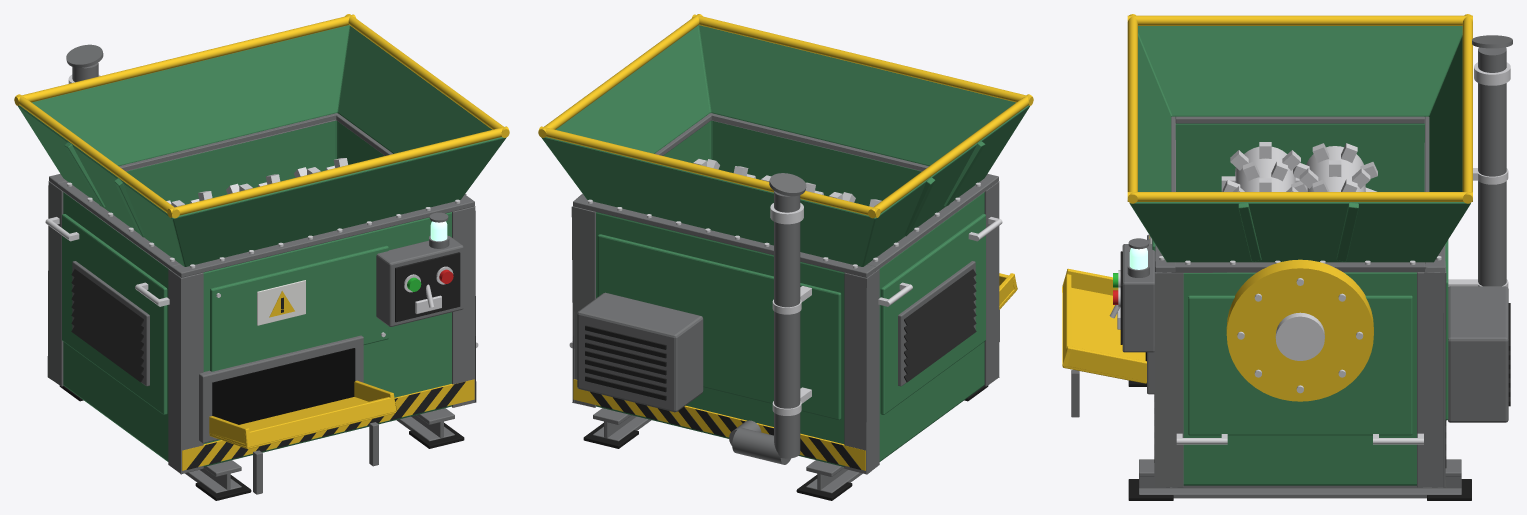
File: recycler.fbx
3 renders of one model, left to right at view 1: azimuth 30°, elevation 25°; view 2: azimuth 150°, elevation 25°; view 3: azimuth 270°, elevation 25°, orthographic. The views are drawn at different scales.
Visible parts, largest first — view 1: Hopper, Body_Main, Body_Panel_Front, Hopper_Lip, Body_Panel_Left, Output_Slot, Body_TopRim, Body_CornerGuard_FL, Output_Tray, Vent_Louvers, Body_CornerGuard_FR, Output_Frame (+13 smaller); view 2: Hopper, Body_Main, Body_Panel_Back, Hopper_Lip, Motor_Housing, Body_Panel_Left, Body_CornerGuard_BL, Body_TopRim, Exhaust_Pipe, Vent_Louvers, Motor_Vent_Slats, Body_CornerGuard_BR (+11 smaller); view 3: Hopper, Body_Main, Body_Panel_Right, Gear_Cover, Hopper_Lip, Motor_Housing, Output_Tray, Body_CornerGuard_FR, Exhaust_Pipe, Body_CornerGuard_BR, Body_TopRim, Base_Skid_R (+8 smaller).
Part boxes in pixels (bbox=[...]): Hopper: bbox=[18, 25, 506, 266]; Body_Main: bbox=[63, 120, 451, 466]; Body_Panel_Front: bbox=[210, 245, 388, 371]; Hopper_Lip: bbox=[14, 14, 509, 218]; Body_Panel_Left: bbox=[62, 214, 167, 414]; Output_Slot: bbox=[212, 348, 355, 424]; Body_TopRim: bbox=[49, 113, 474, 277]; Body_CornerGuard_FL: bbox=[168, 269, 203, 474]; Output_Tray: bbox=[209, 380, 396, 448]; Vent_Louvers: bbox=[71, 269, 143, 382]; Body_CornerGuard_FR: bbox=[452, 206, 476, 407]; Output_Frame: bbox=[199, 335, 363, 443]; Hopper: bbox=[541, 25, 1029, 266]; Body_Main: bbox=[596, 120, 984, 466]; Body_Panel_Back: bbox=[597, 234, 841, 419]; Hopper_Lip: bbox=[538, 14, 1033, 218]; Motor_Housing: bbox=[577, 292, 703, 412]; Body_Panel_Left: bbox=[880, 214, 985, 414]; Body_CornerGuard_BL: bbox=[844, 269, 879, 474]; Body_TopRim: bbox=[573, 113, 998, 277]; Exhaust_Pipe: bbox=[774, 191, 800, 458]; Vent_Louvers: bbox=[904, 269, 976, 382]; Motor_Vent_Slats: bbox=[585, 325, 666, 400]; Body_CornerGuard_BR: bbox=[571, 206, 595, 407]; Hopper: bbox=[1129, 26, 1470, 262]; Body_Main: bbox=[1175, 123, 1424, 485]; Body_Panel_Right: bbox=[1188, 295, 1412, 435]; Gear_Cover: bbox=[1226, 259, 1373, 401]; Hopper_Lip: bbox=[1127, 14, 1472, 203]; Motor_Housing: bbox=[1447, 286, 1508, 422]; Output_Tray: bbox=[1062, 268, 1146, 383]; Body_CornerGuard_FR: bbox=[1154, 261, 1183, 487]; Exhaust_Pipe: bbox=[1478, 47, 1506, 286]; Body_CornerGuard_BR: bbox=[1417, 261, 1446, 487]; Body_TopRim: bbox=[1155, 116, 1445, 272]; Base_Skid_R: bbox=[1139, 459, 1461, 498].
Size of the model in its own units: 2.13 by 1.89 by 2.21.
